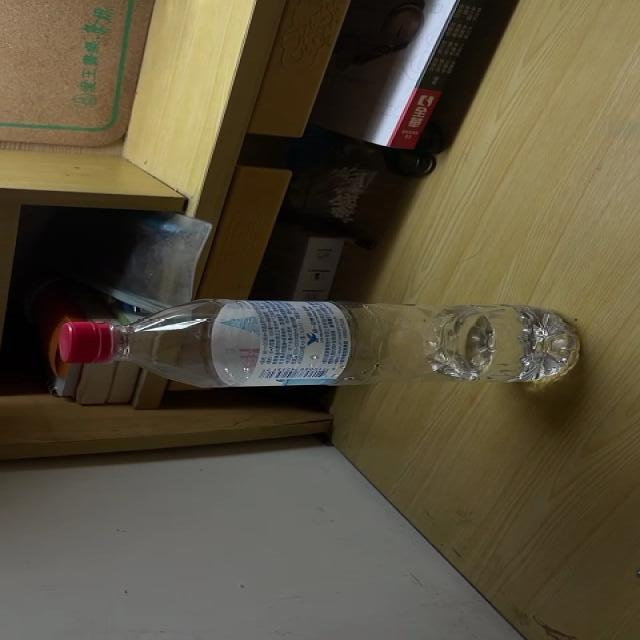Water: (51, 300, 584, 388)
